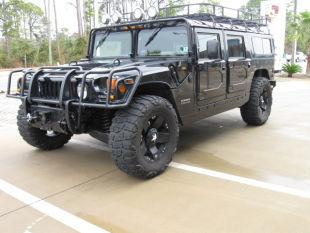car: (18, 16, 273, 188)
